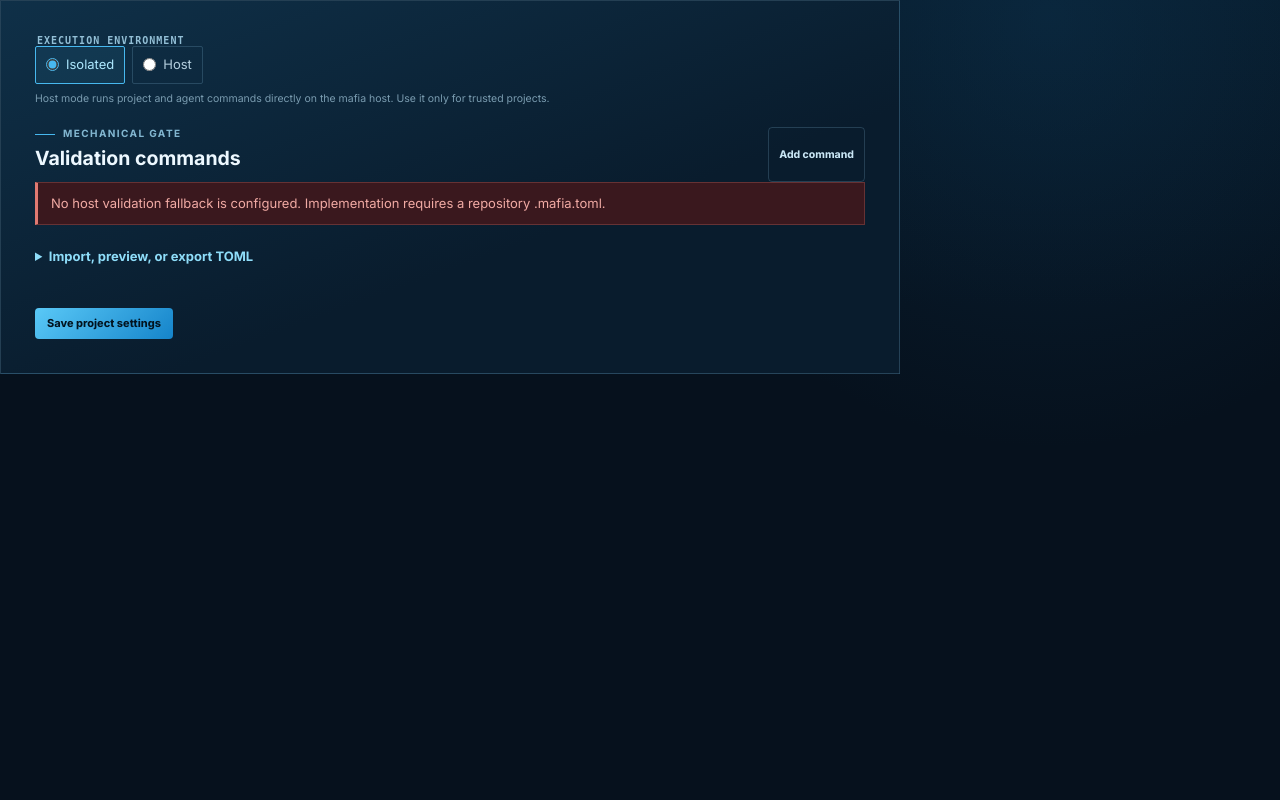
ProjectSettingsForm › rejects timeout  before submission
Click the button "Add command": (817, 154) left=768, top=127, right=865, bottom=182
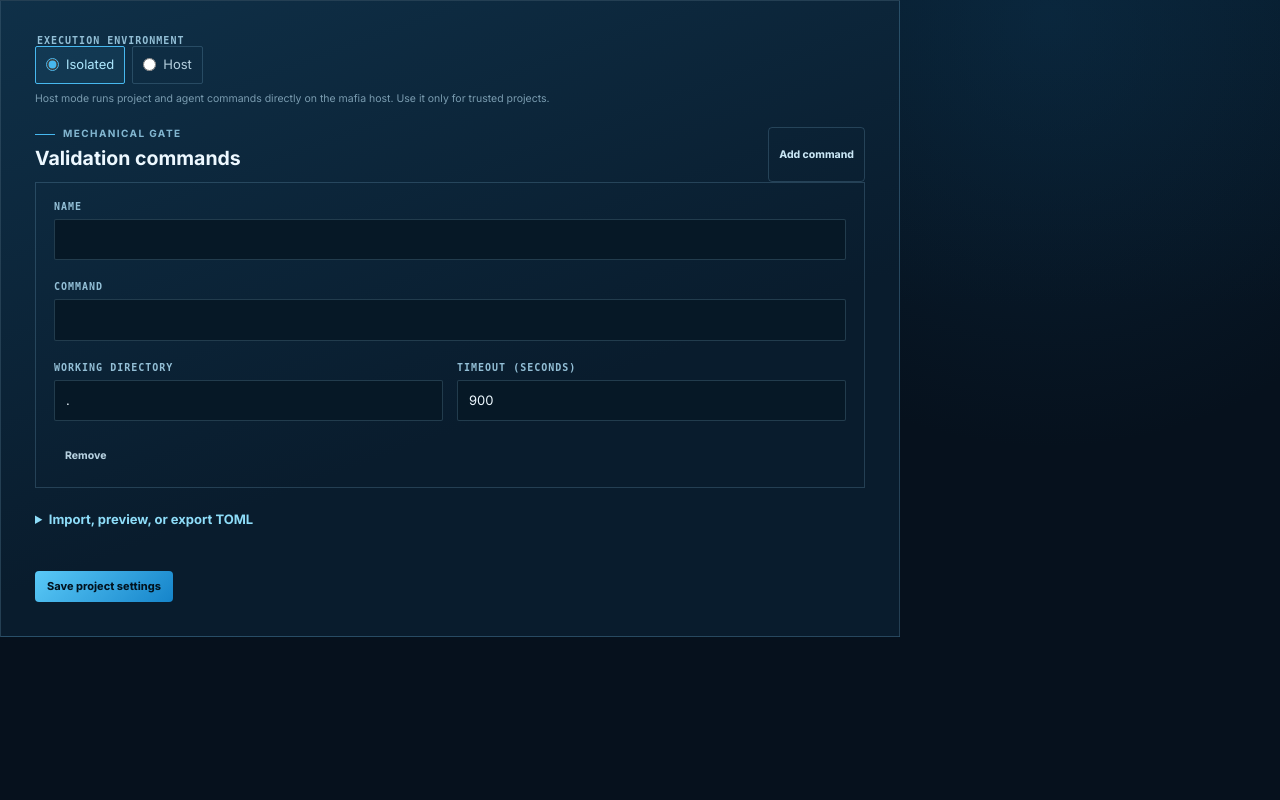
Clear the number field labelled "Timeout (seconds)": (652, 400) left=457, top=380, right=846, bottom=421
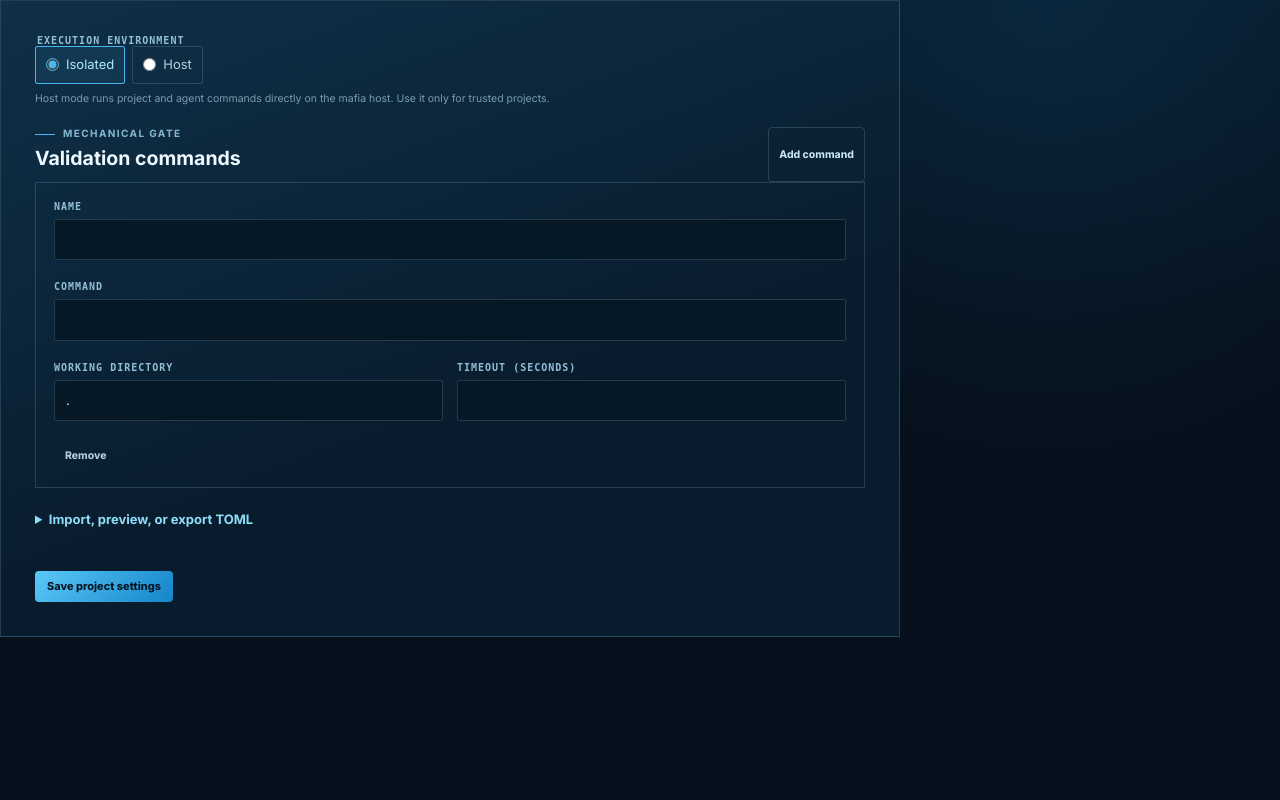
Click the button "Save project settings": (104, 586) left=35, top=570, right=173, bottom=602
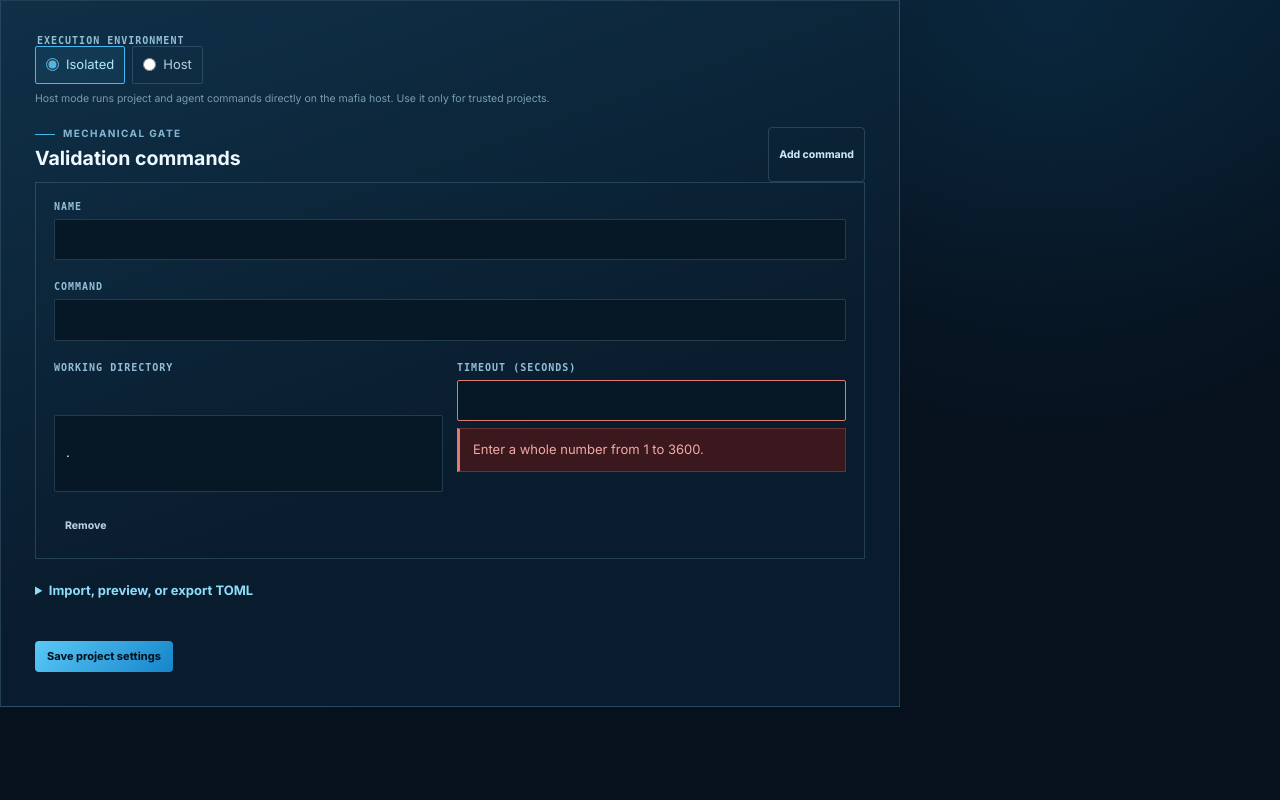
expect the message shows "whole number from 1 to 3600": met, box left=473, top=441, right=704, bottom=457
